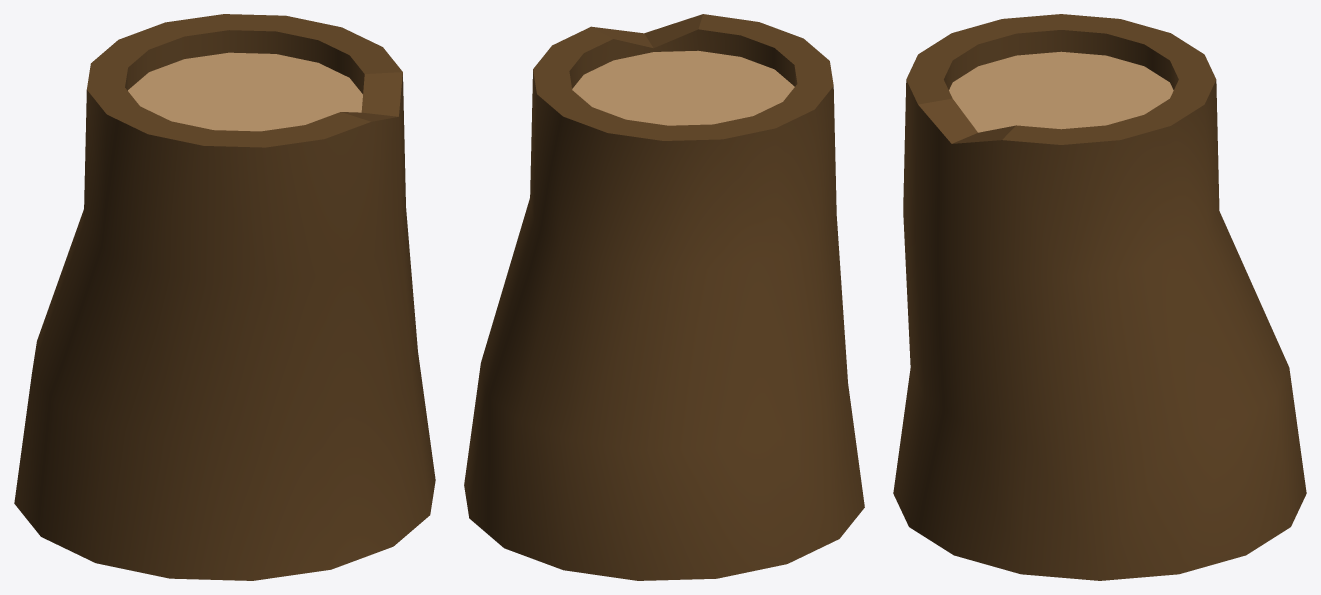
File: mdl_sapin1_mdl_tronc1.FBX
The picture shows the model from 3 angles, left to right: view 1: azimuth 30°, elevation 25°; view 2: azimuth 150°, elevation 25°; view 3: azimuth 270°, elevation 25°; orthographic projection. The views are drawn at different scales.
Parts seen in each view (by area): view 1: mdl_sapin1_mdl_tronc1; view 2: mdl_sapin1_mdl_tronc1; view 3: mdl_sapin1_mdl_tronc1.
Part boxes in pixels (x1,y1,x2,y2): mdl_sapin1_mdl_tronc1: [14, 14, 435, 580]; mdl_sapin1_mdl_tronc1: [464, 14, 864, 580]; mdl_sapin1_mdl_tronc1: [893, 14, 1306, 580].
Size of what is drawn, in the model's own units: 75.98 by 75.98 by 83.97.
